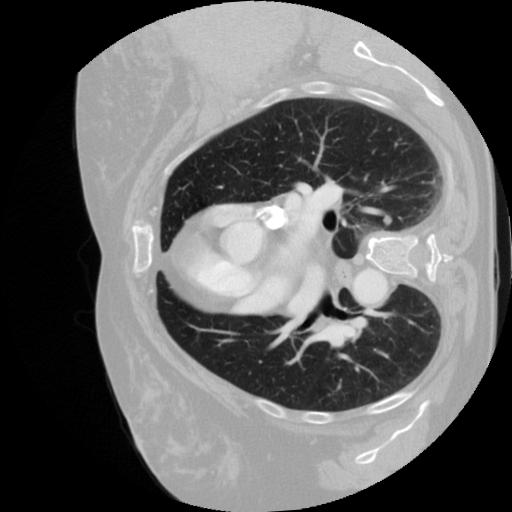nodule: (380, 213, 395, 228)
